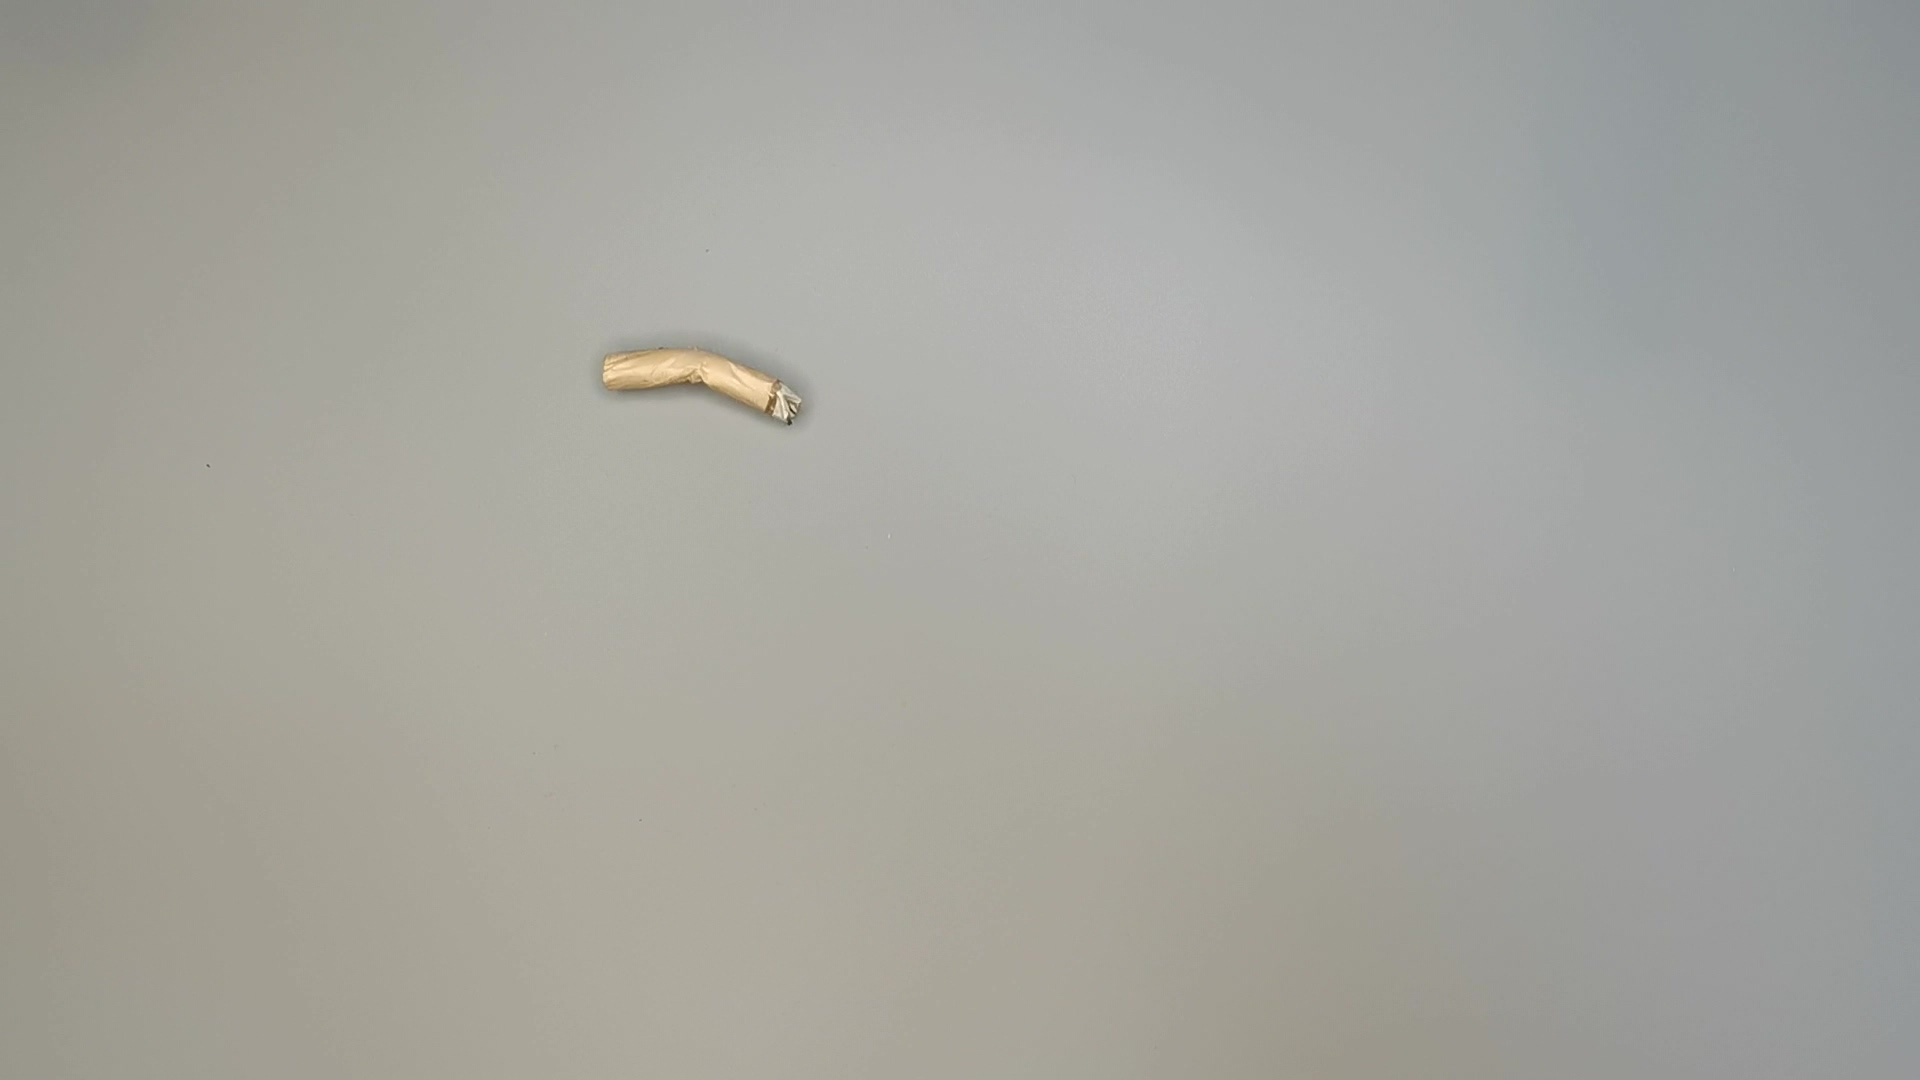cigarette: (585, 338, 814, 434)
